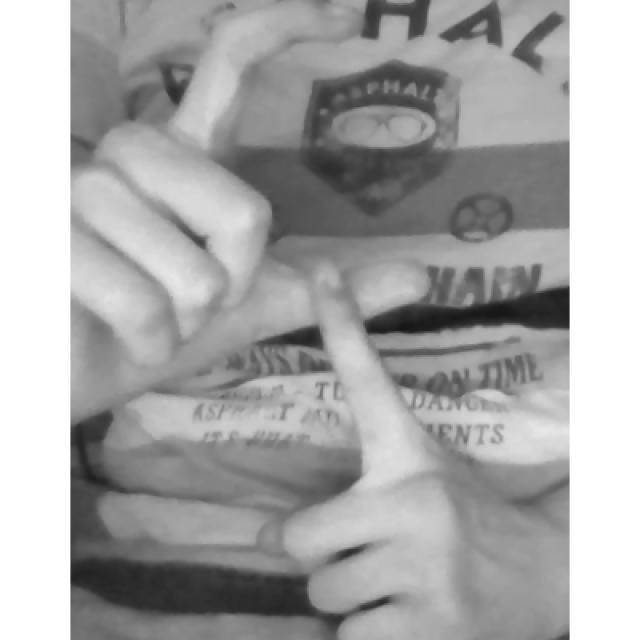C_: (72, 1, 536, 640)
